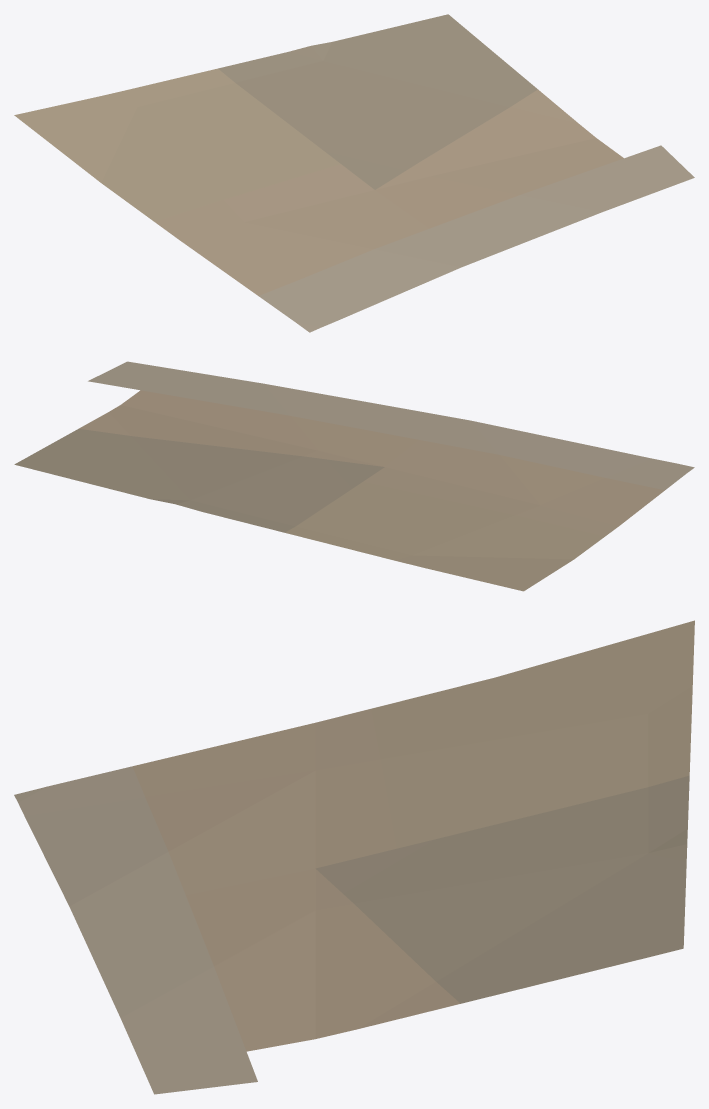
The model's file is farm_2_20_soil.glb.
3 views of the same model, one above another, from view 1: azimuth 30°, elevation 25°; view 2: azimuth 150°, elevation 25°; view 3: azimuth 270°, elevation 25° (orthographic). The views are drawn at different scales.
Parts seen in each view (by area): view 1: geometry_0; view 2: geometry_0; view 3: geometry_0.
Part boxes in pixels (x1=…): geometry_0: x1=14, y1=14, x2=694, y2=332; geometry_0: x1=14, y1=361, x2=694, y2=591; geometry_0: x1=14, y1=620, x2=694, y2=1094.
Size of the model in its own units: 218 by 31 by 164.
